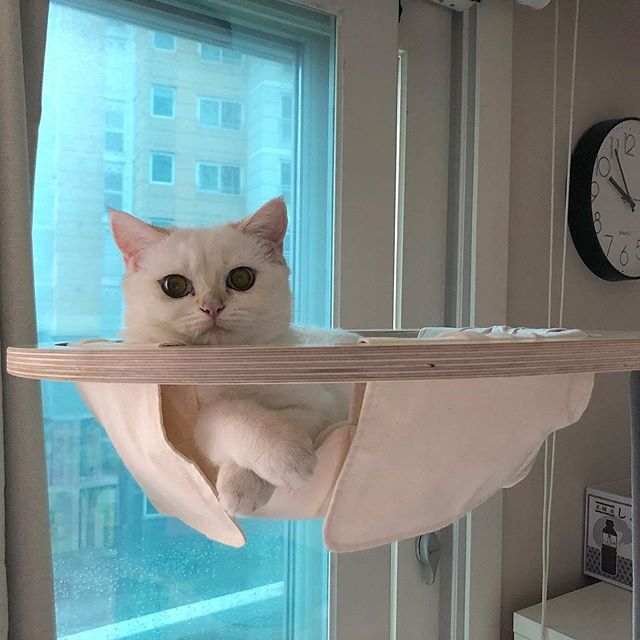cat: (105, 195, 300, 341)
